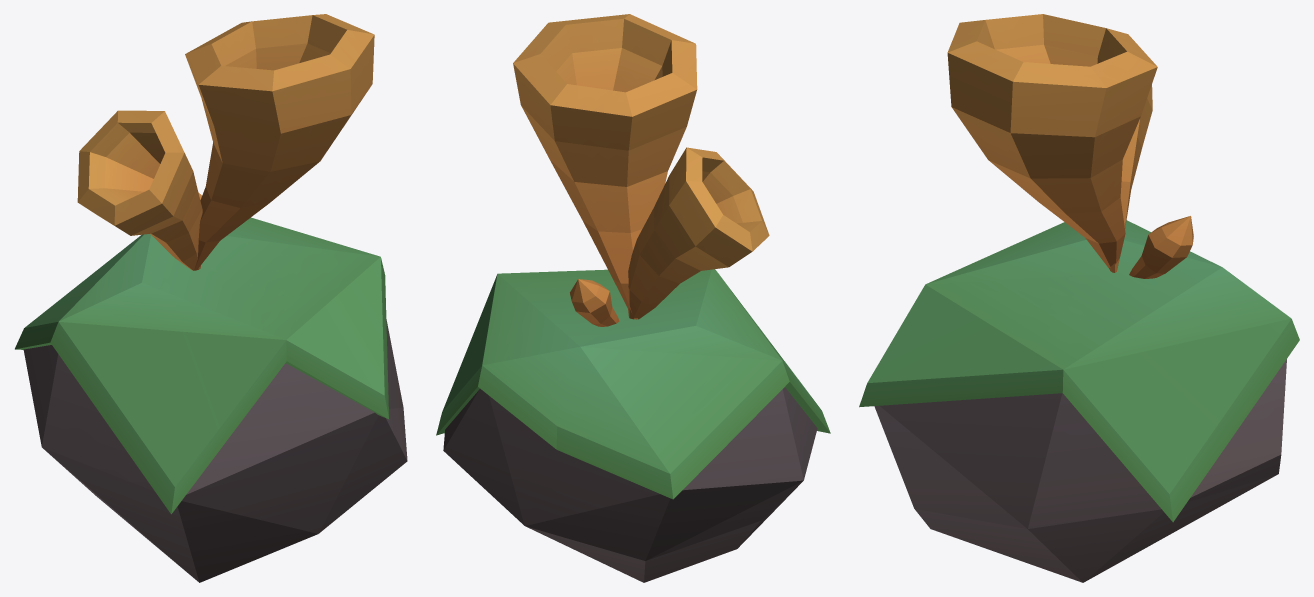
File: plant_02.FBX
The picture shows the model from 3 angles, left to right: view 1: azimuth 30°, elevation 25°; view 2: azimuth 150°, elevation 25°; view 3: azimuth 270°, elevation 25°; orthographic projection. The views are drawn at different scales.
Visible parts, largest first — view 1: plant_02; view 2: plant_02; view 3: plant_02.
Boxes of the visible parts, bbox=[...] form: plant_02: bbox=[15, 14, 407, 582]; plant_02: bbox=[436, 14, 830, 582]; plant_02: bbox=[859, 14, 1299, 582].
Bounding box in the file's own units: 2.58 × 3.8 × 2.63.
Materials: 2 (2 with a texture image).
